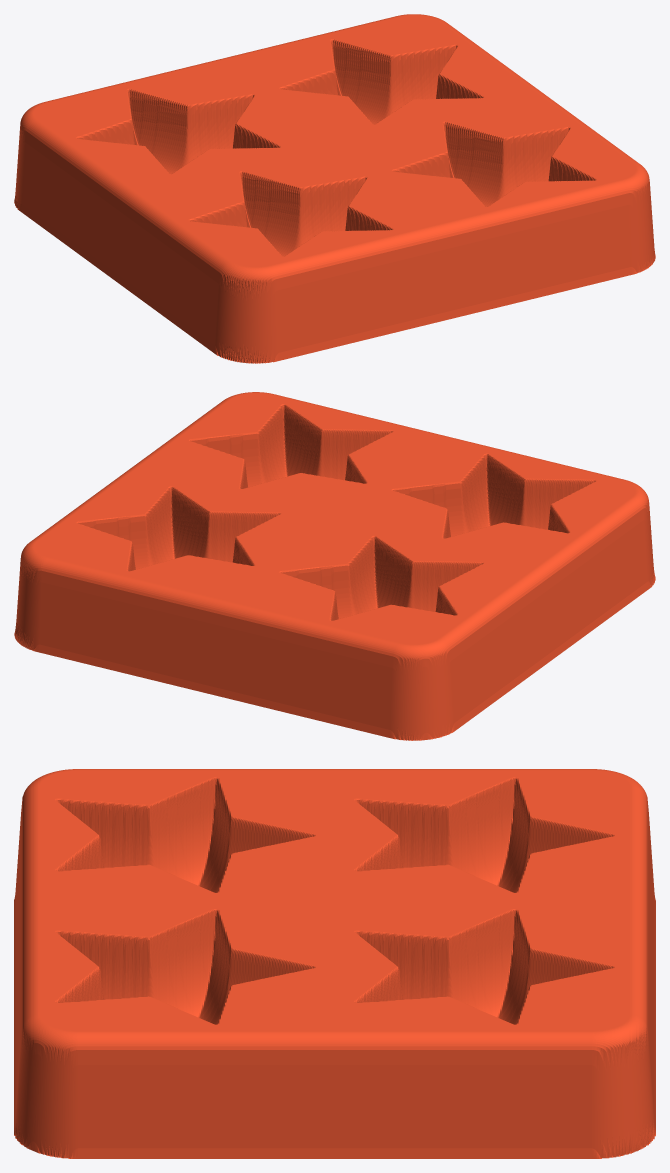
Rendered from mold.glb.
3 renders of one model, top to bottom at view 1: azimuth 30°, elevation 25°; view 2: azimuth 150°, elevation 25°; view 3: azimuth 270°, elevation 25°, orthographic. The views are drawn at different scales.
Parts seen in each view (by area): view 1: geometry_0; view 2: geometry_0; view 3: geometry_0.
Part boxes in pixels (x1,y1,x2,y2): geometry_0: (14, 14, 655, 363); geometry_0: (14, 392, 655, 740); geometry_0: (14, 769, 655, 1158).
Bounding box in the file's own units: 0.0942 × 0.0182 × 0.0906.
